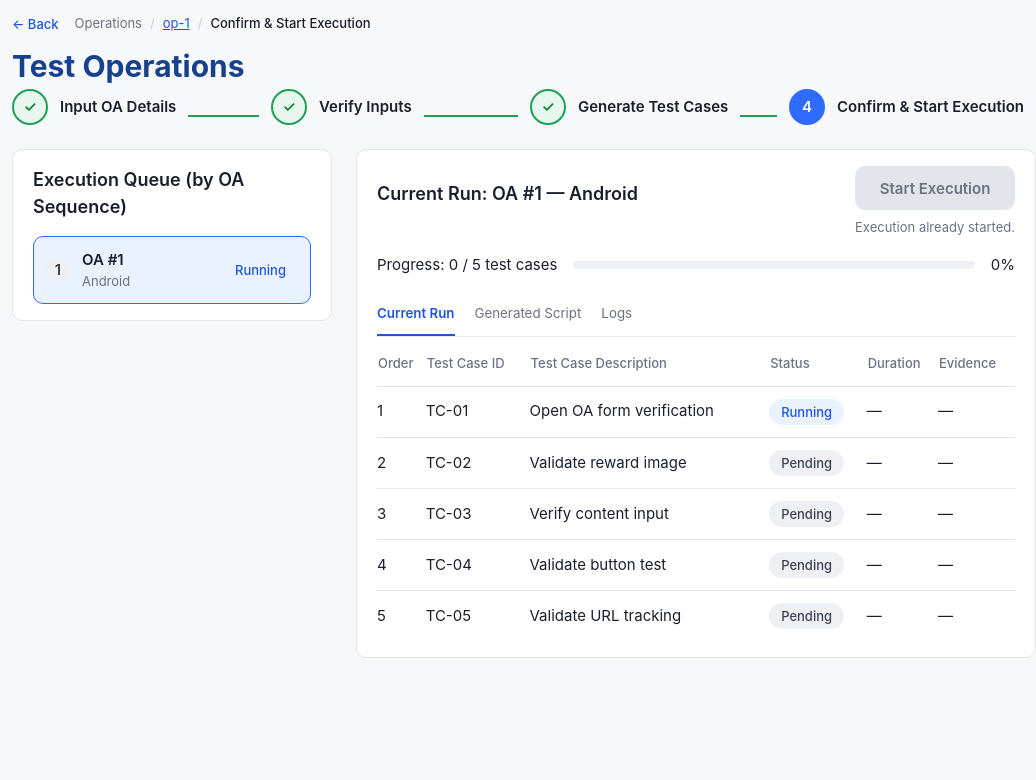
Test: ExecuteScreen › switches to the Logs tab and shows accumulated log entries
What coordinates should you click on to do the following:
click the tab "Logs"
I would click on:
 (617, 314)
Its box is [601, 292, 632, 336].
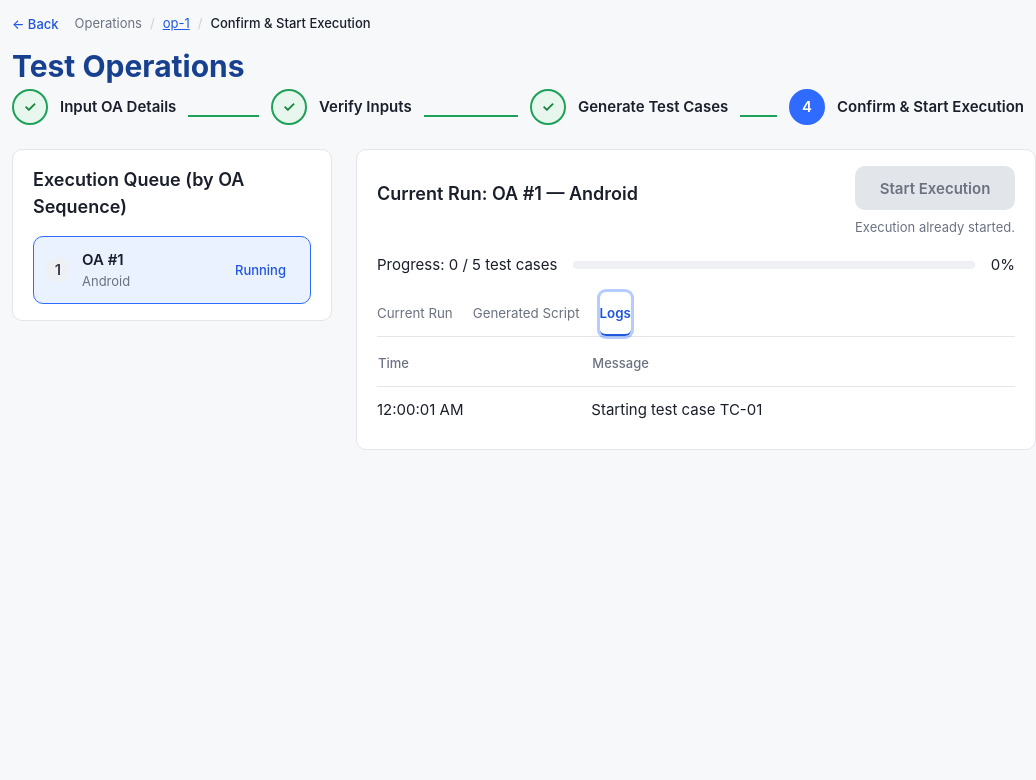
Check: the text "Starting test case TC-01" is shown, box [591, 386, 1015, 433]
